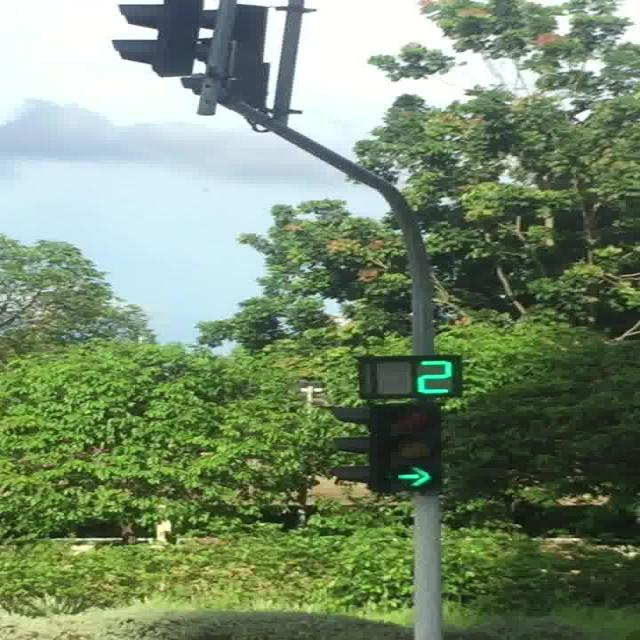traffic light: (330, 402, 442, 495), (108, 0, 202, 78), (382, 402, 442, 494), (357, 354, 463, 400), (330, 406, 376, 491)
